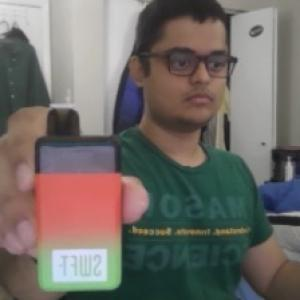Swift-E-Ciggirate: (32, 98, 133, 299)
